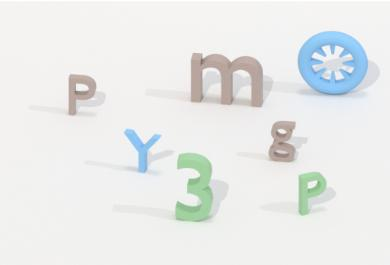0-TronLo: (293, 28, 371, 102)
3: (169, 149, 220, 225)
P: (296, 167, 329, 222), (63, 70, 99, 119)
Y: (121, 127, 163, 176)
g: (265, 117, 299, 166)
m: (187, 49, 267, 113)
